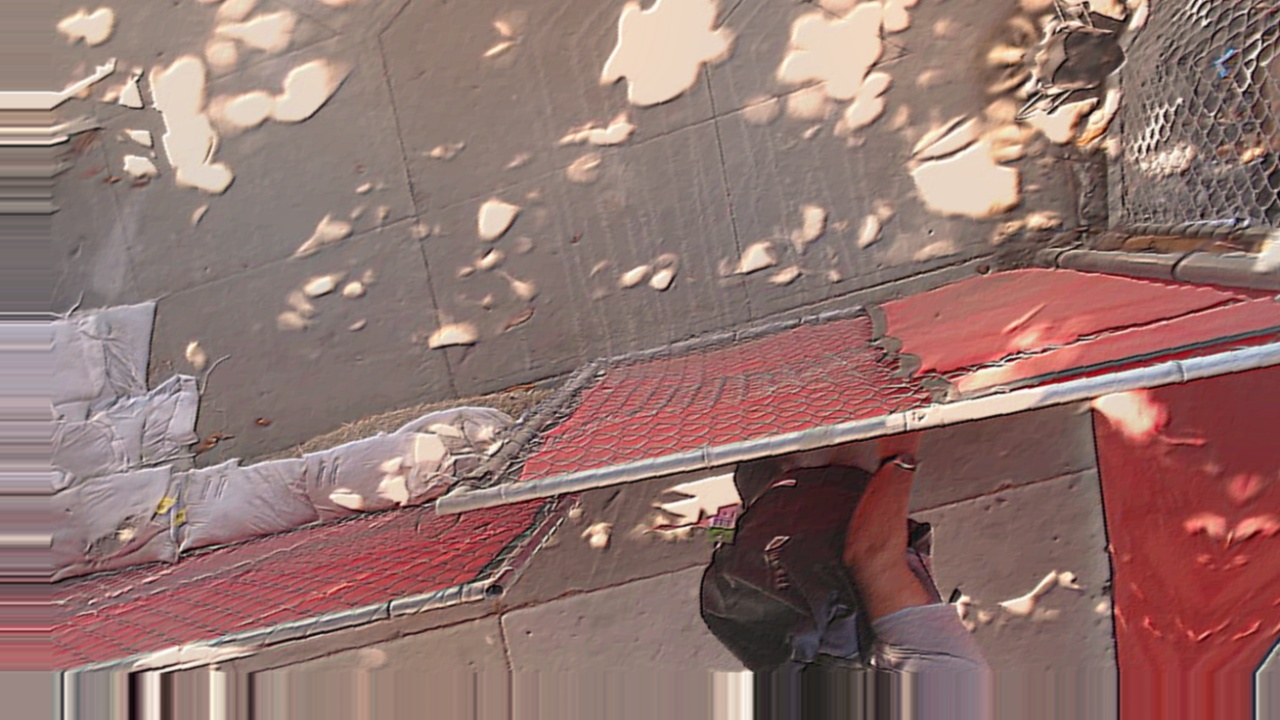hardhat: (929, 568, 1108, 720)
person: (733, 449, 1103, 720)
red: (1032, 613, 1089, 671)
safetyvest: (788, 376, 1099, 610)
